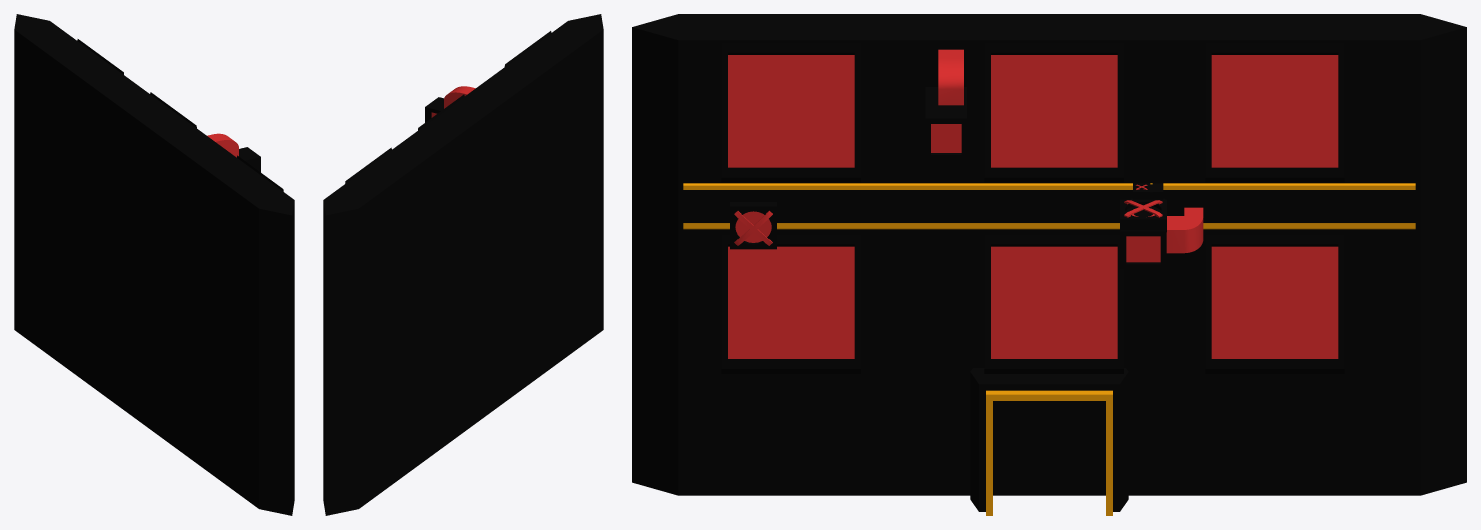
File: BigBadBuildingFacade.fbx
3 renders of one model, left to right at view 1: azimuth 30°, elevation 25°; view 2: azimuth 150°, elevation 25°; view 3: azimuth 270°, elevation 25°, orthographic. The views are drawn at different scales.
Parts seen in each view (by area): view 1: wall_straight_20, detail_airSmall_25; view 2: wall_straight_20, detail_airSmall_25; view 3: wall_straight_20, detail_solarPanel_21, detail_solarPanel_22, detail_solarPanel_23, detail_solarPanel_33, detail_solarPanel_32, detail_solarPanel_34, wall_garageDoor_31, wall_border_30, detail_airSmall_25, detail_airSmall_27, detail_airHuge_24 (+1 smaller).
Part boxes in pixels (x1,y1,x2,y2): wall_straight_20: [14, 14, 294, 515]; detail_airSmall_25: [207, 133, 260, 172]; wall_straight_20: [323, 14, 603, 515]; detail_airSmall_25: [425, 86, 475, 122]; wall_straight_20: [632, 14, 1466, 495]; detail_solarPanel_21: [721, 42, 860, 182]; detail_solarPanel_22: [984, 42, 1123, 182]; detail_solarPanel_23: [1205, 42, 1344, 182]; detail_solarPanel_33: [1205, 234, 1344, 373]; detail_solarPanel_32: [984, 234, 1123, 373]; detail_solarPanel_34: [721, 234, 860, 373]; wall_garageDoor_31: [970, 368, 1128, 515]; wall_border_30: [683, 183, 1415, 229]; detail_airSmall_25: [925, 49, 966, 160]; detail_airSmall_27: [1120, 207, 1203, 268]; detail_airHuge_24: [730, 202, 776, 249].
Bounding box in the file's own units: 31.13 × 107 × 178.
